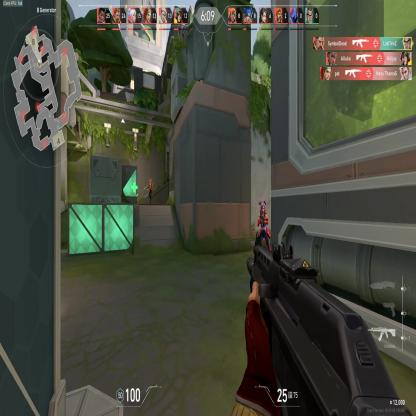enemy: (255, 199, 270, 245), (148, 178, 153, 204)
